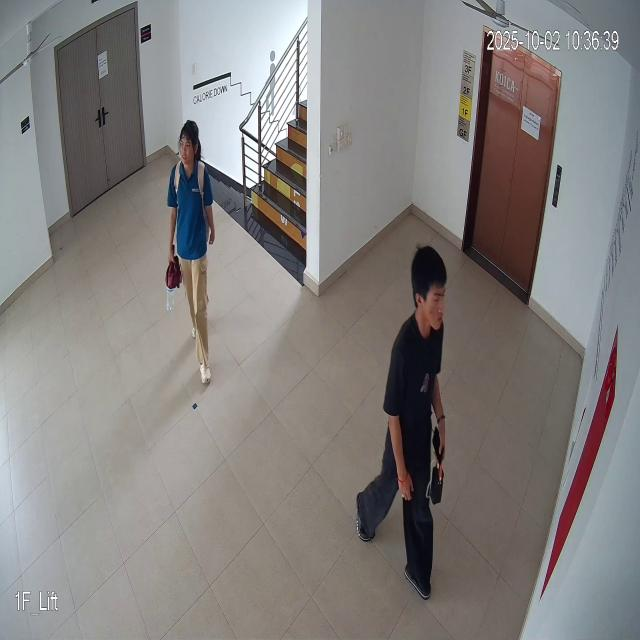face: (410, 238, 449, 336), (175, 119, 200, 168)
